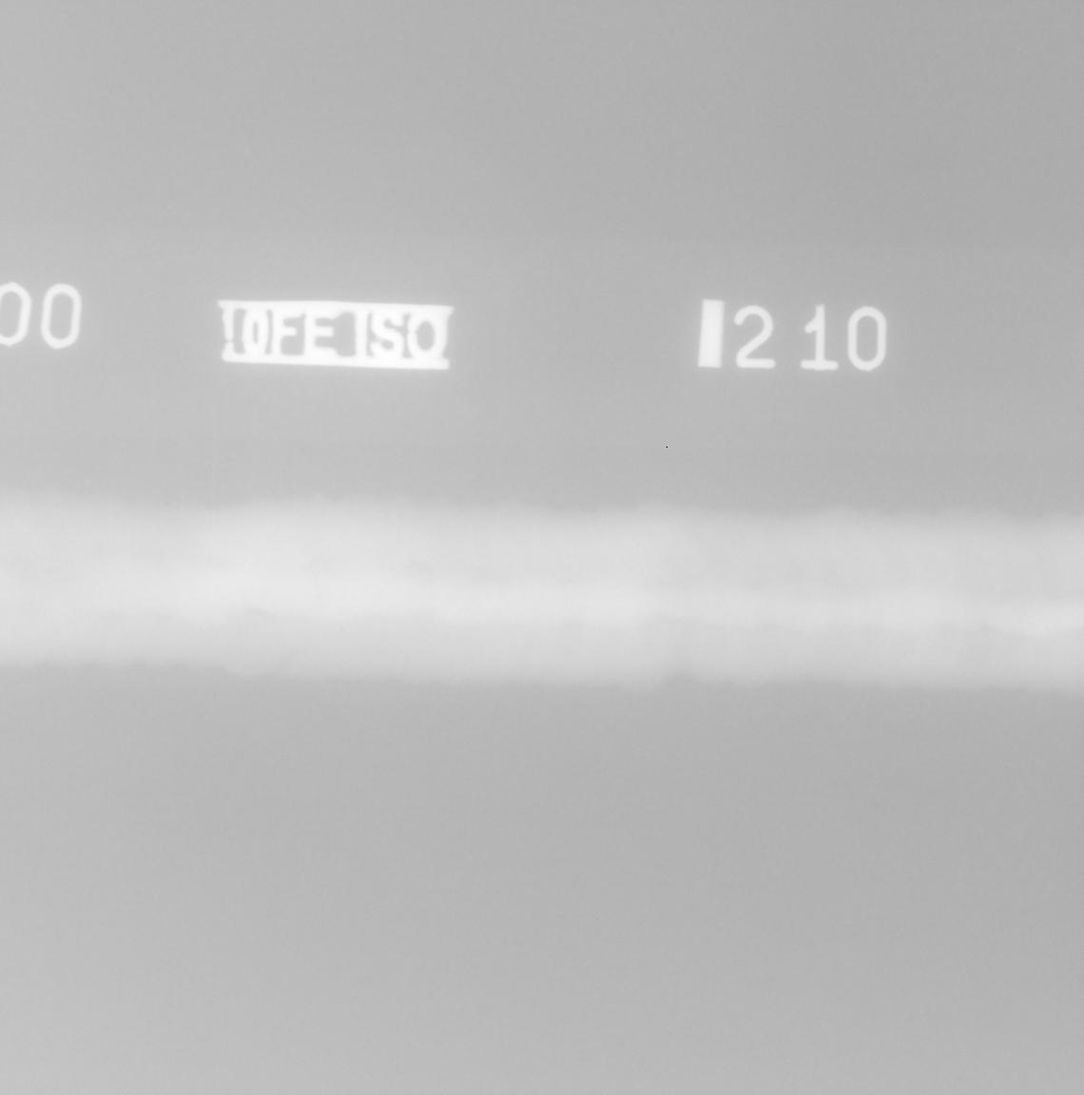Pore/Porosity: (714, 602, 719, 608), (340, 629, 344, 632)
